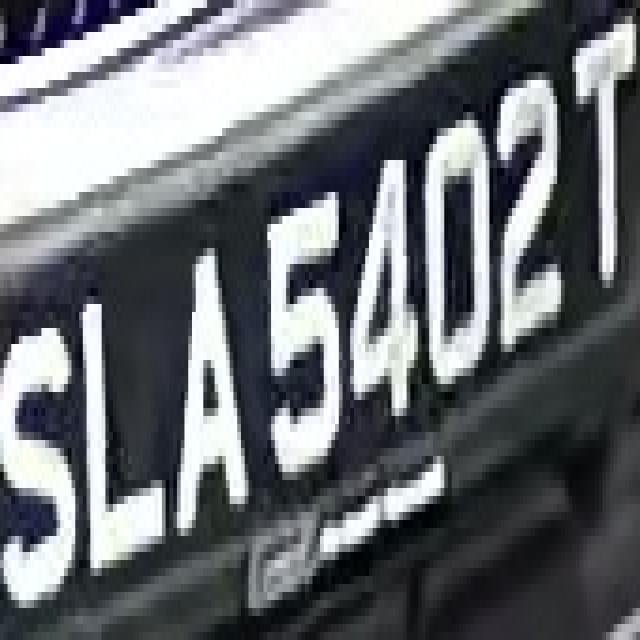0: (426, 104, 508, 376)
2: (493, 72, 576, 344)
4: (339, 128, 425, 456)
5: (264, 168, 342, 512)
A: (158, 224, 260, 568)
L: (72, 280, 166, 576)
S: (8, 288, 79, 608)
T: (561, 8, 640, 296)
